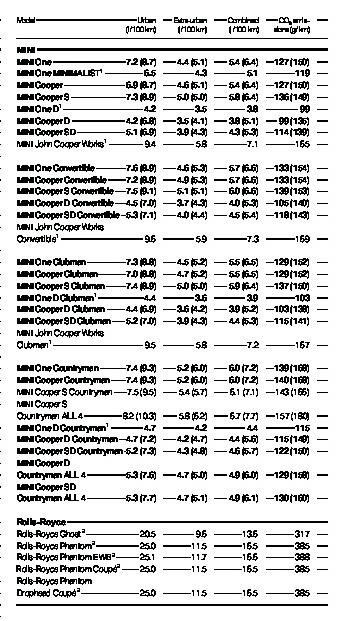table: (0, 0, 347, 621)
